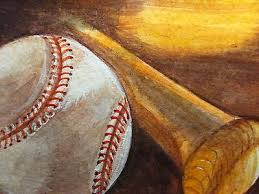baseball bat: (46, 4, 259, 194)
